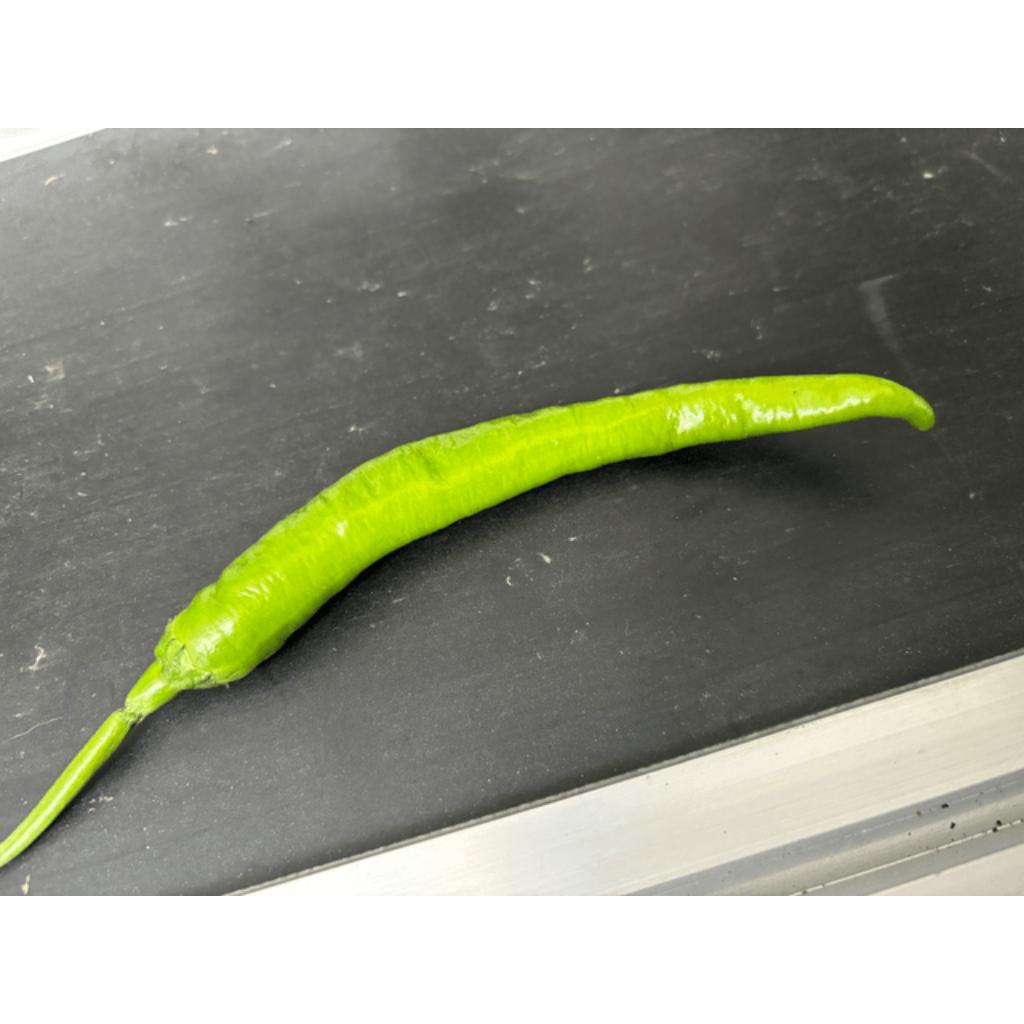chili: (144, 373, 938, 692)
